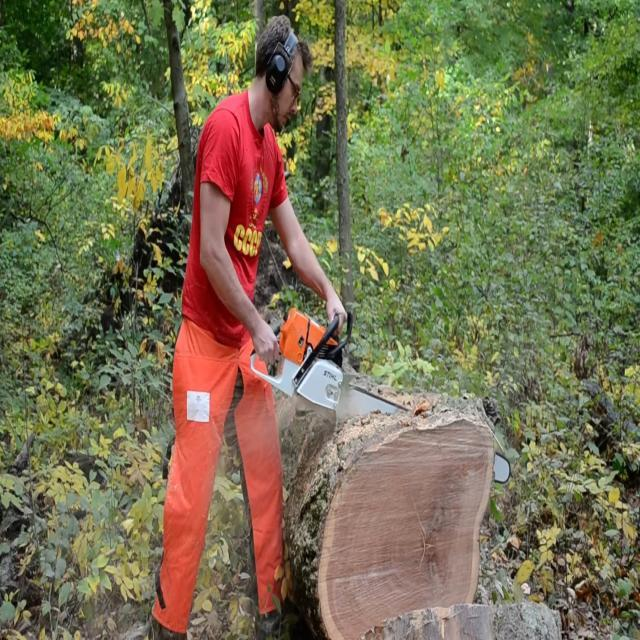Chainsaw: (230, 278, 527, 498)
